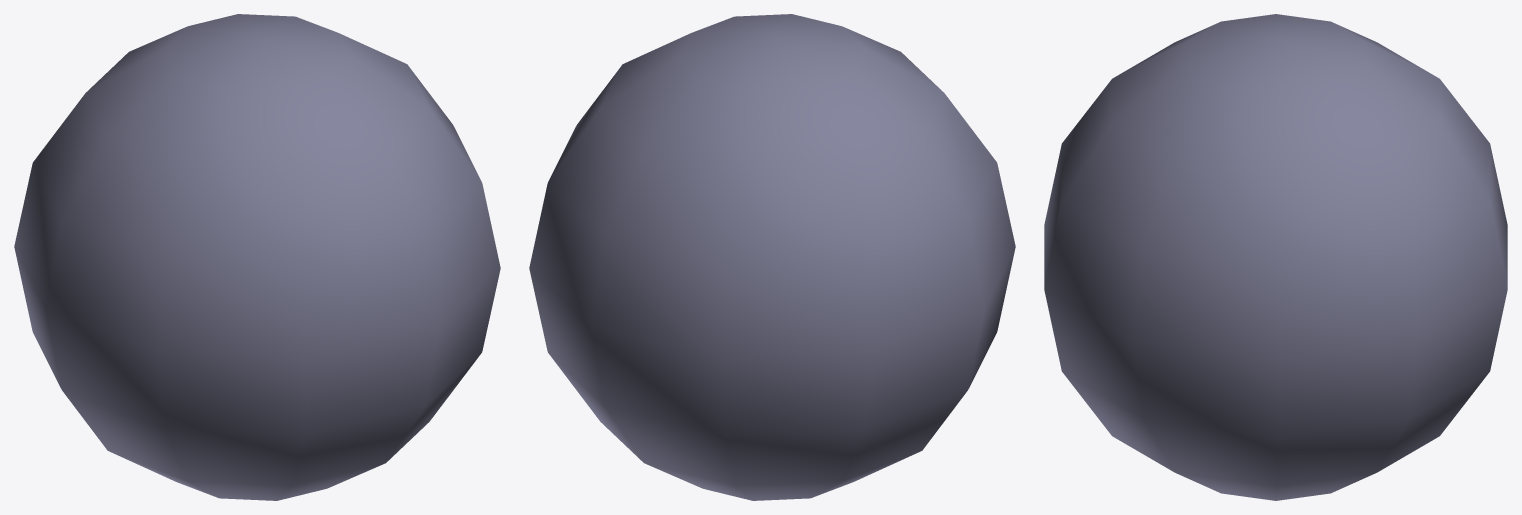
Rendered from fiaranha_stage2.obj.
3 views of the same model, side by side, from view 1: azimuth 30°, elevation 25°; view 2: azimuth 150°, elevation 25°; view 3: azimuth 270°, elevation 25° (orthographic).
Size of the model in its own units: 2 by 2 by 1.9.
